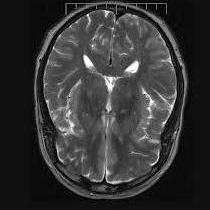Normal_Brain: (30, 1, 210, 210)
